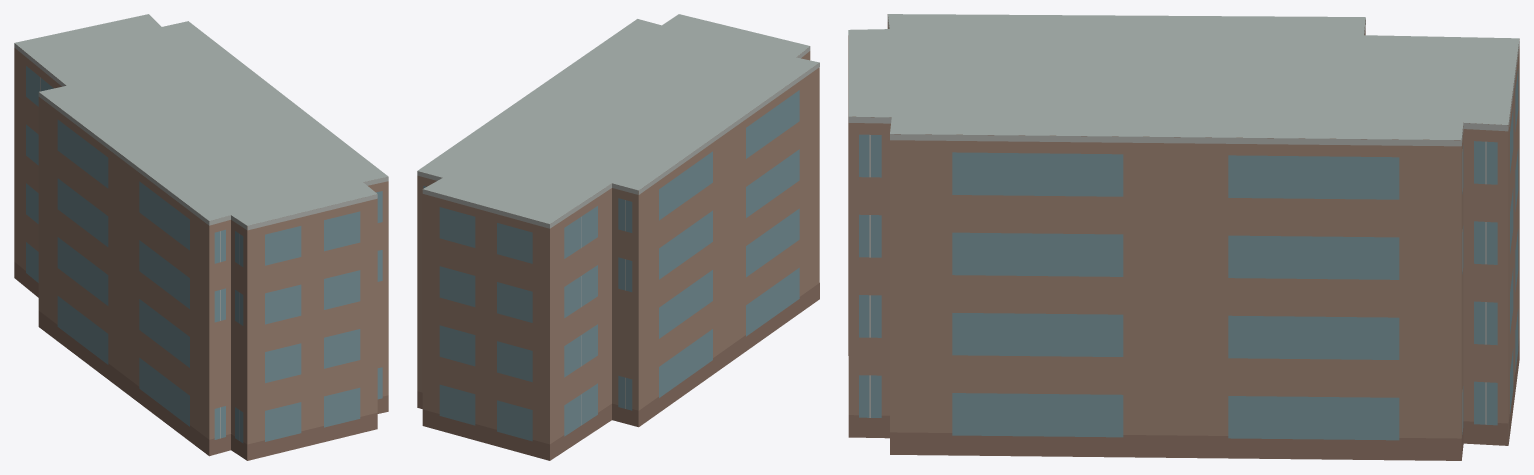
File: survey-upis-32823804.glb
The picture shows the model from 3 angles, left to right: view 1: azimuth 30°, elevation 25°; view 2: azimuth 150°, elevation 25°; view 3: azimuth 270°, elevation 25°; orthographic projection. The views are drawn at different scales.
Parts seen in each view (by area): view 1: survey-upis-32823804.tmp; view 2: survey-upis-32823804.tmp; view 3: survey-upis-32823804.tmp.
Part boxes in pixels (bbox=[...]): survey-upis-32823804.tmp: bbox=[14, 14, 388, 460]; survey-upis-32823804.tmp: bbox=[417, 14, 819, 460]; survey-upis-32823804.tmp: bbox=[848, 14, 1519, 460].
Size of the model in its own units: 10.64 by 12.6 by 23.9.
